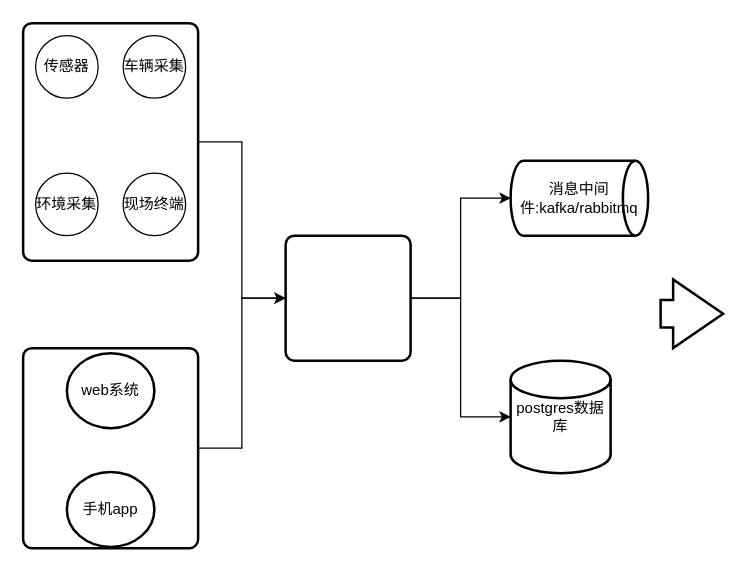
Image size: 745x570. Some labels were removed from this diagram. The box of each missing label's shape, as (x1, y1, x2, y2) in pixels:
IOT服务层,业务服务层: (284, 234, 411, 361)
珠峰露天专家系统web层/手机app层: (21, 346, 199, 549)
硬件采集层: (21, 21, 199, 261)
